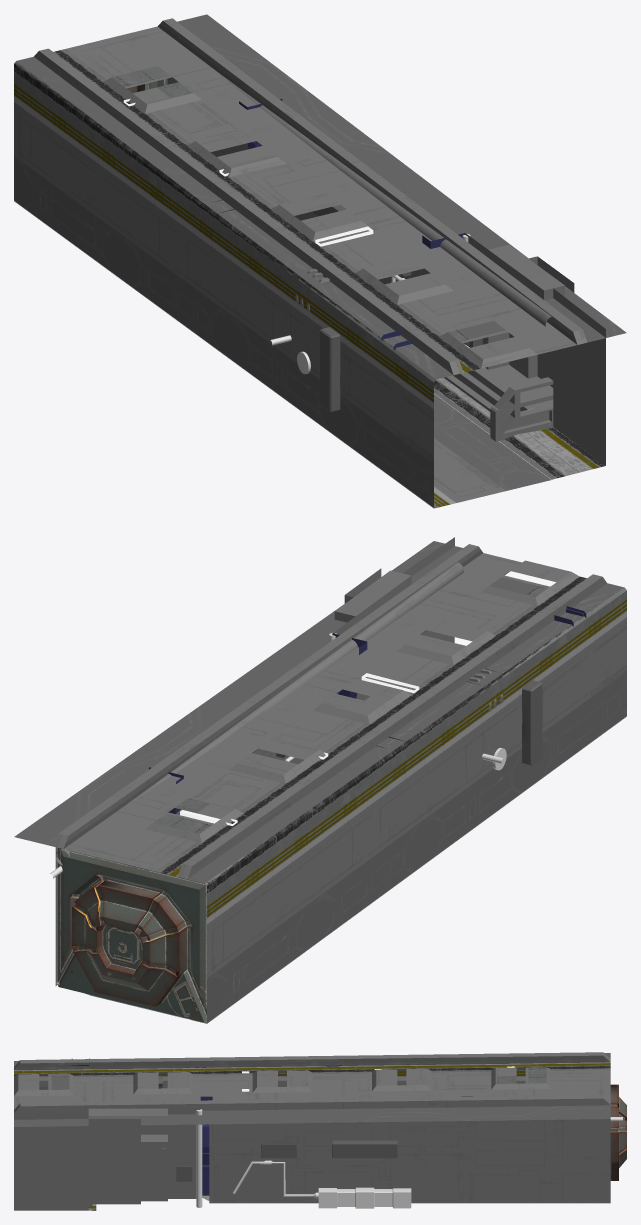
Rendered from Environment2.glb.
3 views of the same model, one above another, from view 1: azimuth 30°, elevation 25°; view 2: azimuth 150°, elevation 25°; view 3: azimuth 270°, elevation 25° (orthographic). The views are drawn at different scales.
Visible parts, largest first — view 1: Cube.016, Cube, Cube.014, Cube.013, Cube.005, Cube.011; view 2: Cube.016, Cube, Cube.012, Cube.005, Cube.014, Cube.011, lisgh, Cube.013; view 3: Cube.016, Cube, Cube.014, Cube.007, Cube.012, Cube.009, Cube.001, NurbsPath, Cube.008, Vert, Cube.010.
Boxes of the visible parts, x1,y1,x2,y2 form: Cube.016: (16,14,626,379); Cube: (14,61,435,507); Cube.014: (444,233,605,465); Cube.013: (14,201,605,508); Cube.005: (221,75,551,326); Cube.011: (320,327,340,412); Cube.016: (14,541,624,883); Cube: (55,587,626,1022); Cube.012: (58,848,209,1022); Cube.005: (55,562,463,865); Cube.014: (333,537,454,704); Cube.011: (522,680,542,765); lisgh: (180,673,419,825); Cube.013: (56,716,626,1023); Cube.016: (14,1052,610,1126); Cube: (39,1069,610,1203); Cube.014: (14,1108,200,1210); Cube.007: (318,1187,411,1208); Cube.012: (610,1084,626,1180); Cube.009: (332,1140,397,1158); Cube.001: (200,1096,212,1194); NurbsPath: (196,1109,202,1207); Cube.008: (261,1143,296,1158); Vert: (233,1160,318,1198); Cube.010: (176,1166,192,1181).
Size of the model in its own units: 21.7 by 14.69 by 76.23.
9 materials, 5 textured.
